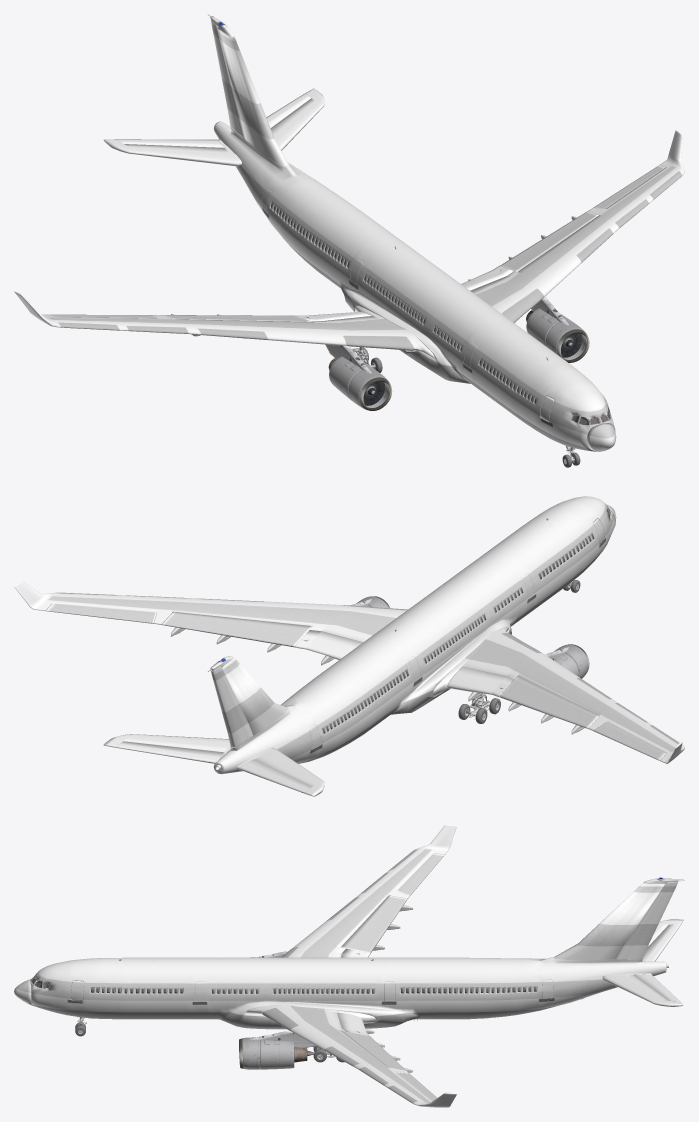
3 renders of one model, top to bottom at view 1: azimuth 30°, elevation 25°; view 2: azimuth 150°, elevation 25°; view 3: azimuth 270°, elevation 25°, orthographic. The views are drawn at different scales.
Parts seen in each view (by area): view 1: Null_A330_Fbx_Root_A330_FGear_Open_A330_HN_a330_bodySG_0, Null_A330_Fbx_Root_A330_HN_A330_Body_A330_Gear_R_a330_wingSG, Null_A330_Fbx_Root_A330_HN_A330_Body_A330_Tail_rear_a330_tai, Null_A330_Fbx_Root_A330_engine_L_a330_engineSG_0, A330_GEAR_F_Null_A330_Fbx_Root_a330_gearSG_3, Null_A330_Fbx_Root_A330_engine_L_A330_engine_support_L_a330_, Null_A330_Fbx_Root_A330_engine_L_A330_engine_rotor_L_a330_en, Null_A330_Fbx_Root_A330_engine_L_a330_engine_trimSG_0; view 2: Null_A330_Fbx_Root_A330_FGear_Open_A330_HN_a330_bodySG_0, Null_A330_Fbx_Root_A330_HN_A330_Body_A330_Gear_R_a330_wingSG, Null_A330_Fbx_Root_A330_HN_A330_Body_A330_Tail_rear_a330_tai, A330_GEAR_F_Null_A330_Fbx_Root_a330_gearSG_3, Null_A330_Fbx_Root_A330_engine_L_a330_engineSG_0; view 3: Null_A330_Fbx_Root_A330_FGear_Open_A330_HN_a330_bodySG_0, Null_A330_Fbx_Root_A330_HN_A330_Body_A330_Gear_R_a330_wingSG, A330_GEAR_F_Null_A330_Fbx_Root_a330_gearSG_3, Null_A330_Fbx_Root_A330_HN_A330_Body_A330_Tail_rear_a330_tai, Null_A330_Fbx_Root_A330_engine_L_a330_engineSG_0, Null_A330_Fbx_Root_A330_engine_L_A330_engine_support_L_a330_.
Part boxes in pixels (x1,y1,x2,y2): Null_A330_Fbx_Root_A330_FGear_Open_A330_HN_a330_bodySG_0: (210, 16, 616, 451); Null_A330_Fbx_Root_A330_HN_A330_Body_A330_Gear_R_a330_wingSG: (14, 130, 684, 358); Null_A330_Fbx_Root_A330_HN_A330_Body_A330_Tail_rear_a330_tai: (103, 88, 324, 166); Null_A330_Fbx_Root_A330_engine_L_a330_engineSG_0: (329, 308, 586, 409); A330_GEAR_F_Null_A330_Fbx_Root_a330_gearSG_3: (171, 14, 610, 467); Null_A330_Fbx_Root_A330_engine_L_A330_engine_support_L_a330_: (303, 268, 568, 373); Null_A330_Fbx_Root_A330_engine_L_A330_engine_rotor_L_a330_en: (363, 333, 582, 405); Null_A330_Fbx_Root_A330_engine_L_a330_engine_trimSG_0: (359, 329, 589, 410); Null_A330_Fbx_Root_A330_FGear_Open_A330_HN_a330_bodySG_0: (210, 496, 616, 774); Null_A330_Fbx_Root_A330_HN_A330_Body_A330_Gear_R_a330_wingSG: (14, 581, 684, 763); Null_A330_Fbx_Root_A330_HN_A330_Body_A330_Tail_rear_a330_tai: (103, 734, 324, 796); A330_GEAR_F_Null_A330_Fbx_Root_a330_gearSG_3: (170, 507, 610, 734); Null_A330_Fbx_Root_A330_engine_L_a330_engineSG_0: (356, 596, 588, 678); Null_A330_Fbx_Root_A330_FGear_Open_A330_HN_a330_bodySG_0: (14, 878, 678, 1029); Null_A330_Fbx_Root_A330_HN_A330_Body_A330_Gear_R_a330_wingSG: (246, 825, 456, 1107); A330_GEAR_F_Null_A330_Fbx_Root_a330_gearSG_3: (31, 877, 684, 1072); Null_A330_Fbx_Root_A330_HN_A330_Body_A330_Tail_rear_a330_tai: (602, 919, 683, 1006); Null_A330_Fbx_Root_A330_engine_L_a330_engineSG_0: (242, 957, 294, 1069); Null_A330_Fbx_Root_A330_engine_L_A330_engine_support_L_a330_: (249, 951, 359, 1048).
Bounding box in the file's own units: 55.97 × 15.17 × 59.12.
9 materials, 9 textured.
